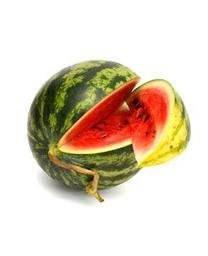watermelon: (27, 58, 192, 196)
